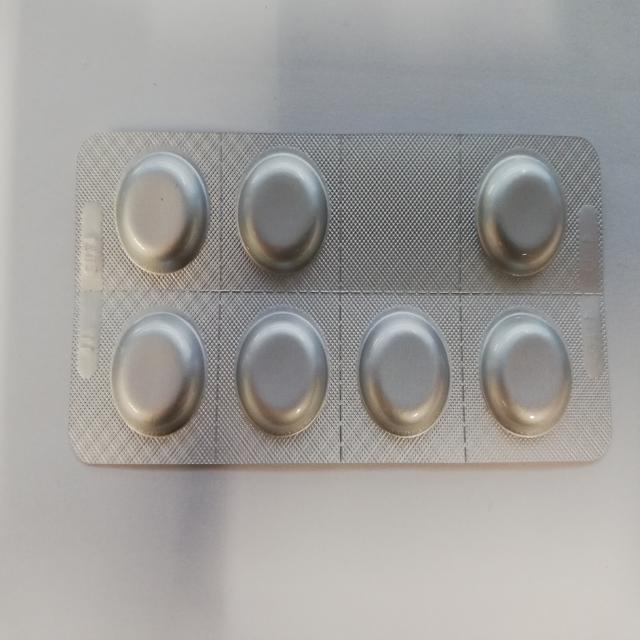Pill: (105, 306, 207, 448), (347, 311, 457, 432), (106, 154, 210, 276), (478, 311, 576, 439), (235, 313, 332, 437), (472, 154, 564, 282), (237, 148, 325, 272)
